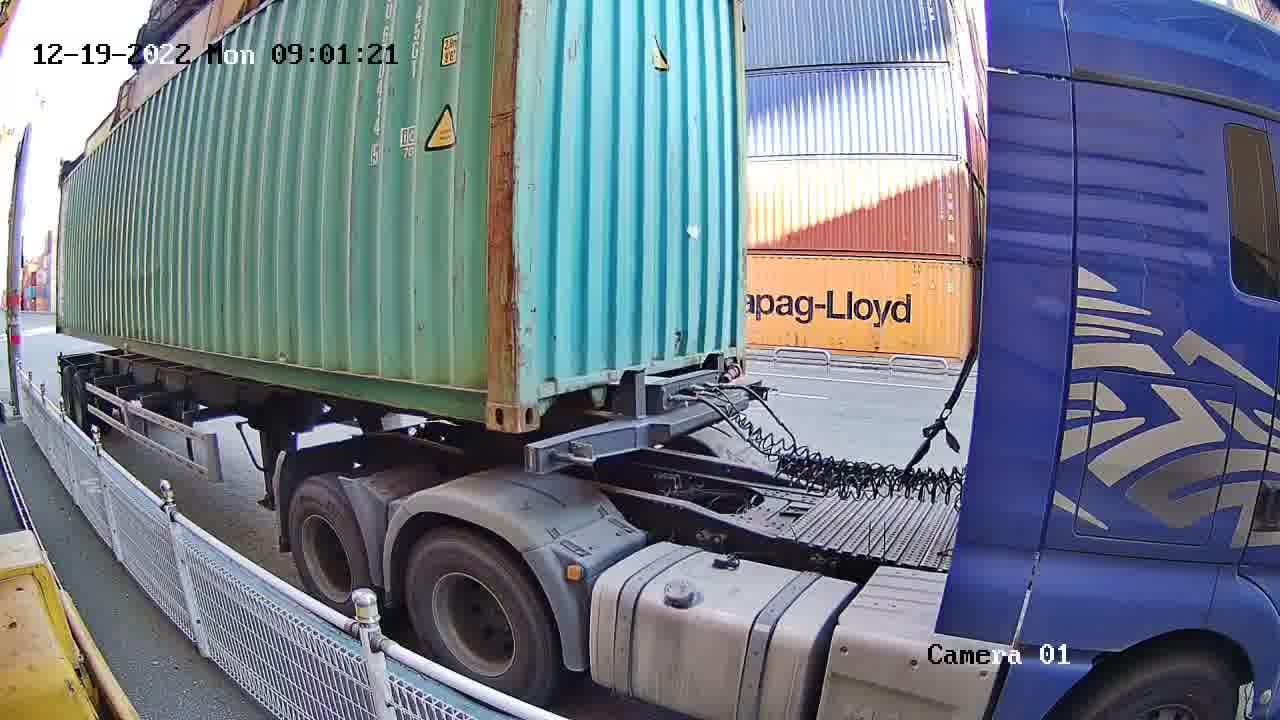Chassis: (524, 382, 766, 477)
Hole_L: (515, 364, 570, 430)
Hole_R: (455, 366, 511, 432)
Tire: (407, 540, 547, 695), (287, 482, 366, 612)
